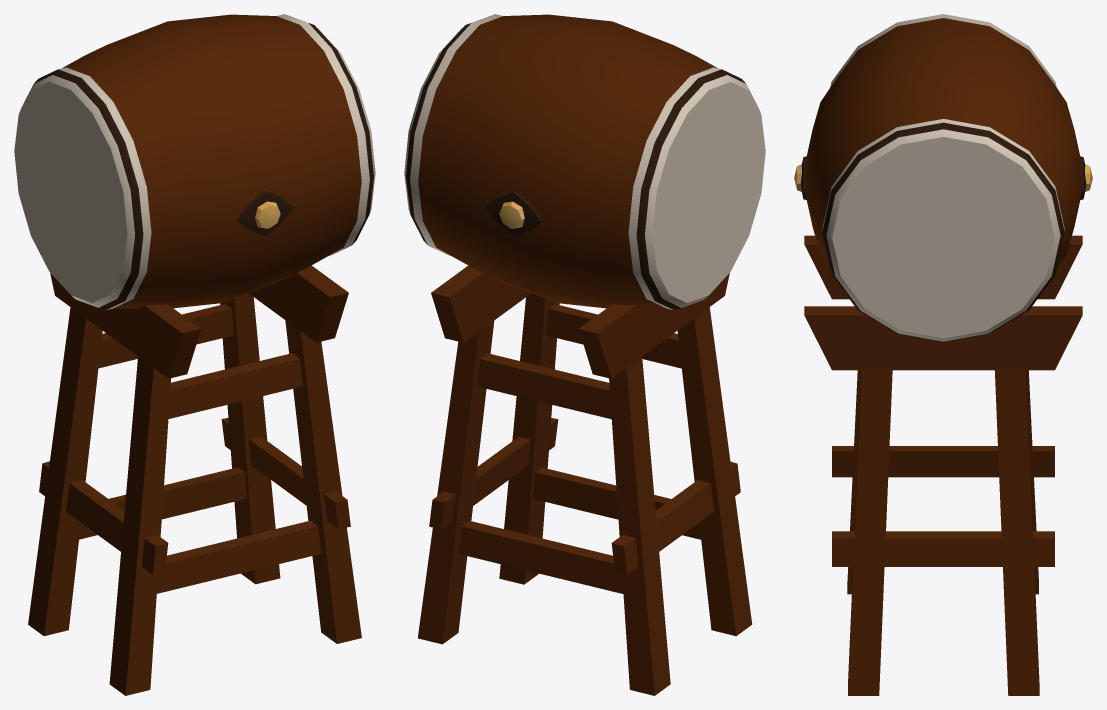
The model's file is Prop_Dojo_Drum.fbx.
The picture shows the model from 3 angles, left to right: view 1: azimuth 30°, elevation 25°; view 2: azimuth 150°, elevation 25°; view 3: azimuth 270°, elevation 25°; orthographic projection.
Parts seen in each view (by area): view 1: Prop_Dojo_Drum; view 2: Prop_Dojo_Drum; view 3: Prop_Dojo_Drum.
Part boxes in pixels (bbox=[...]): Prop_Dojo_Drum: bbox=[14, 14, 375, 695]; Prop_Dojo_Drum: bbox=[404, 14, 765, 695]; Prop_Dojo_Drum: bbox=[794, 14, 1092, 695].
Bounding box in the file's own units: 103 × 237 × 109.
